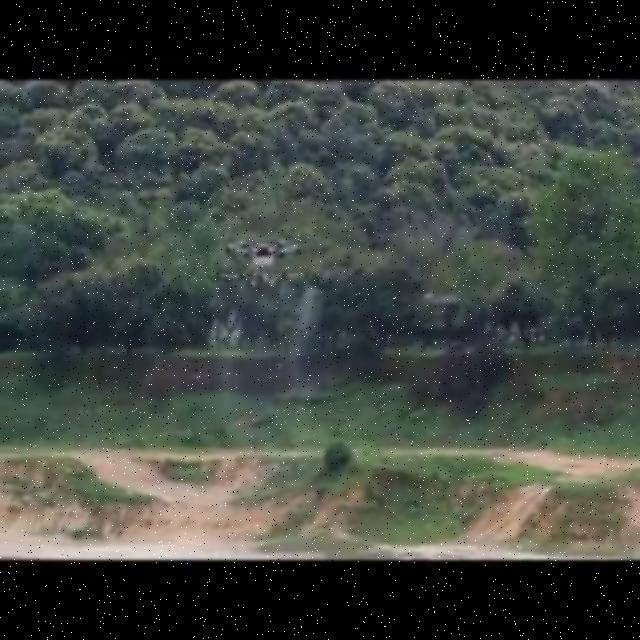UAV: (215, 240, 312, 284)
